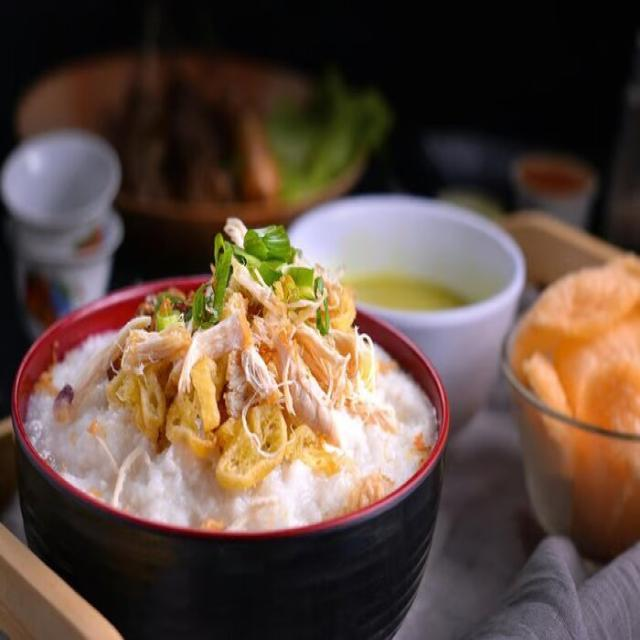bubur ayam: (26, 270, 432, 532)
mangkuk: (11, 251, 448, 632), (12, 48, 391, 282), (292, 193, 527, 433), (500, 256, 640, 566)
